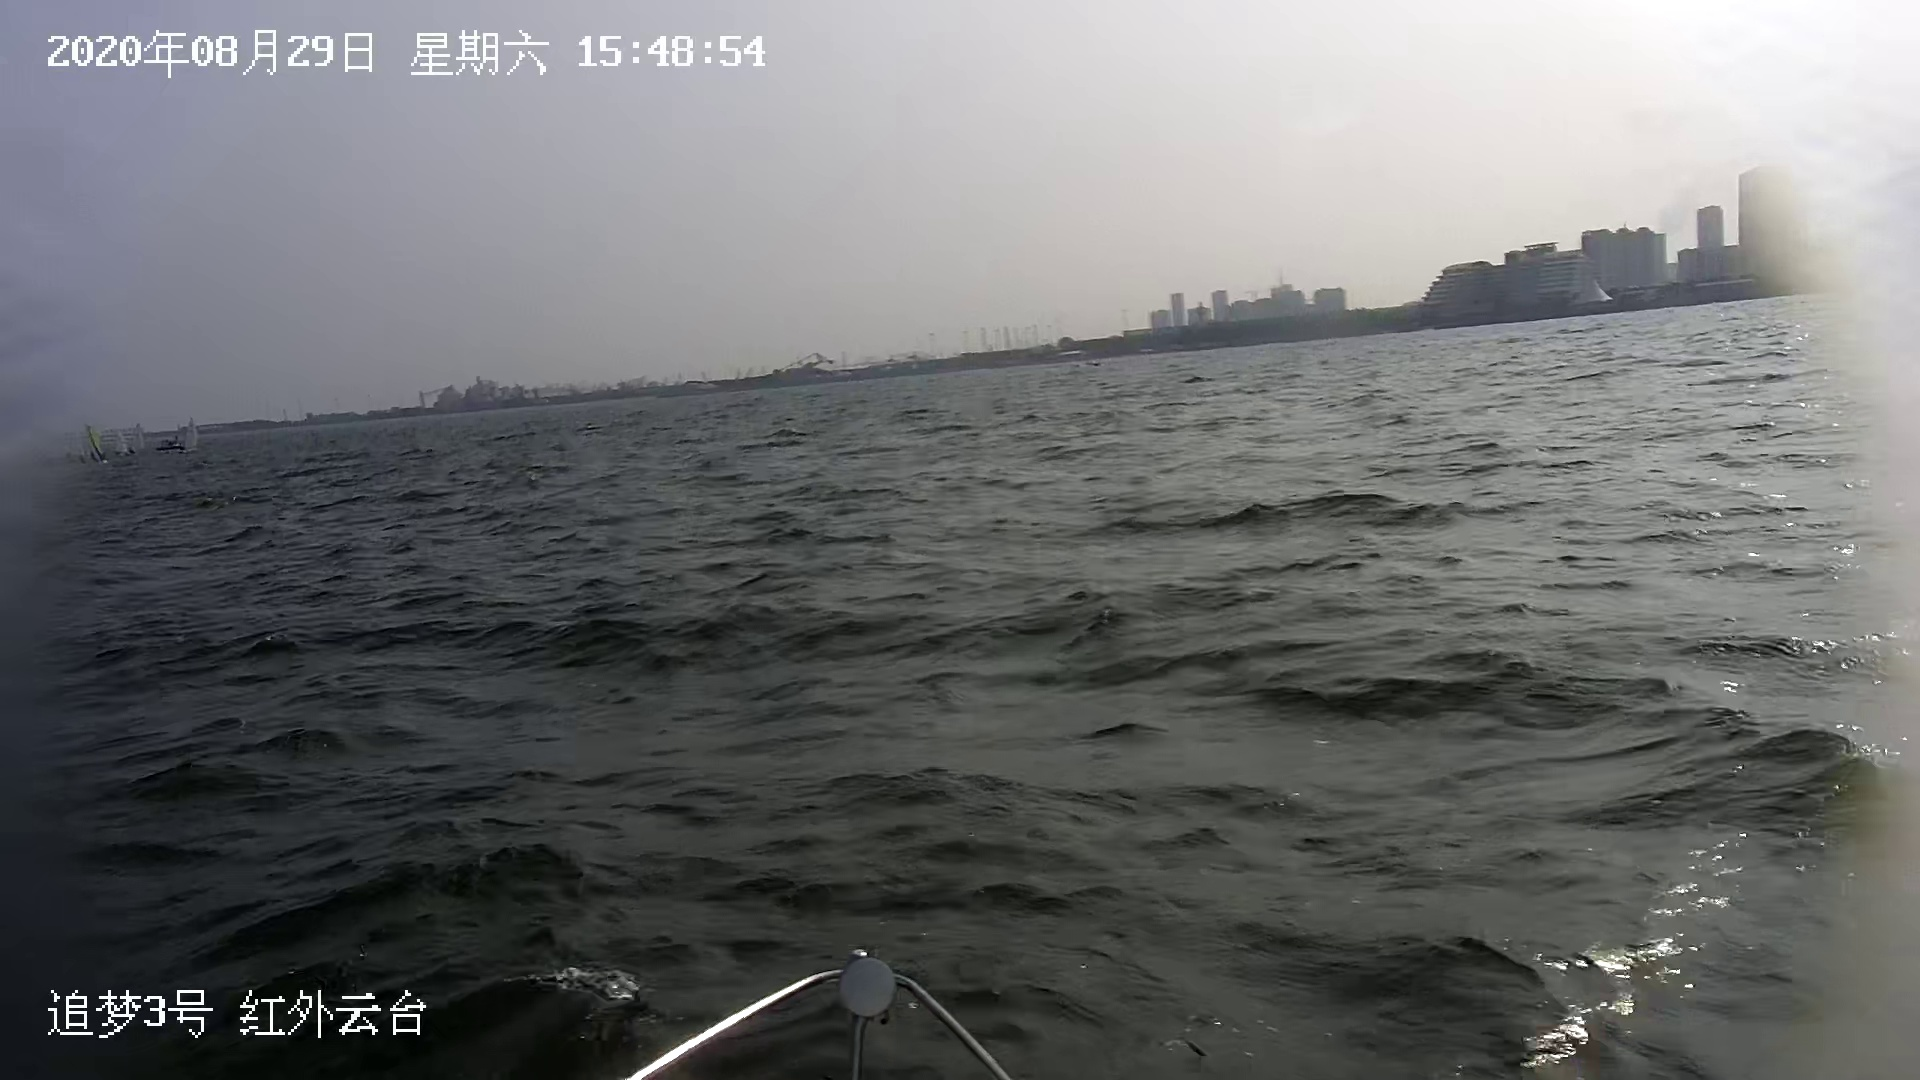barrier: (84, 423, 108, 464), (185, 415, 202, 452), (133, 423, 150, 454), (116, 429, 131, 456), (157, 435, 183, 450)
coast: (124, 148, 1876, 442)
